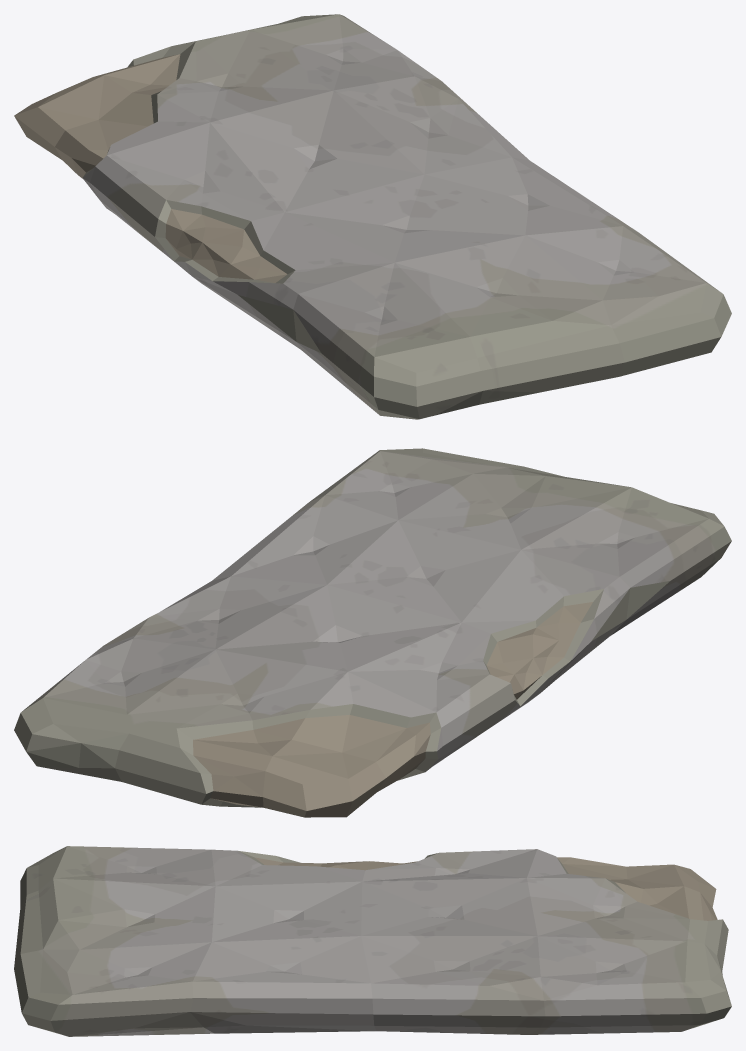
The model's file is SM_Prop_Mattress_02.fbx.
3 renders of one model, top to bottom at view 1: azimuth 30°, elevation 25°; view 2: azimuth 150°, elevation 25°; view 3: azimuth 270°, elevation 25°, orthographic. The views are drawn at different scales.
Visible parts, largest first — view 1: SM_Prop_Mattress_02; view 2: SM_Prop_Mattress_02; view 3: SM_Prop_Mattress_02.
Boxes of the visible parts, box(x1,y1,x2,y2) form: SM_Prop_Mattress_02: box(14, 14, 731, 419); SM_Prop_Mattress_02: box(14, 448, 731, 817); SM_Prop_Mattress_02: box(14, 846, 731, 1036).
Size of the model in its own units: 113 by 22.24 by 226.
